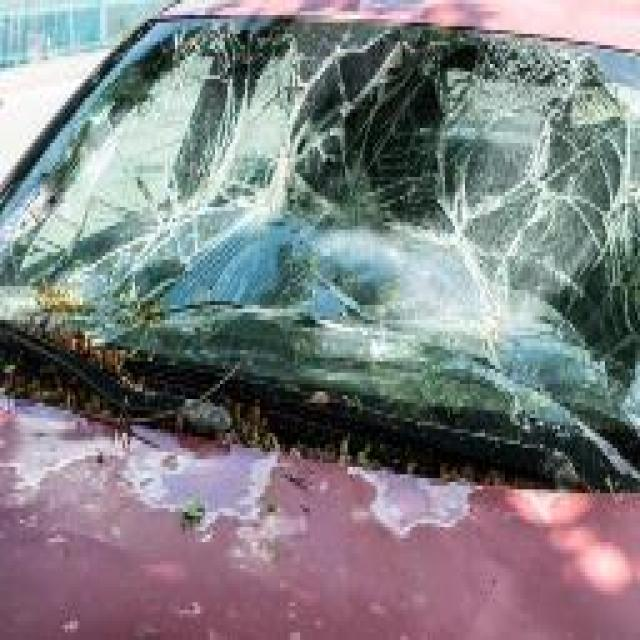Windshield: (0, 5, 640, 491)
